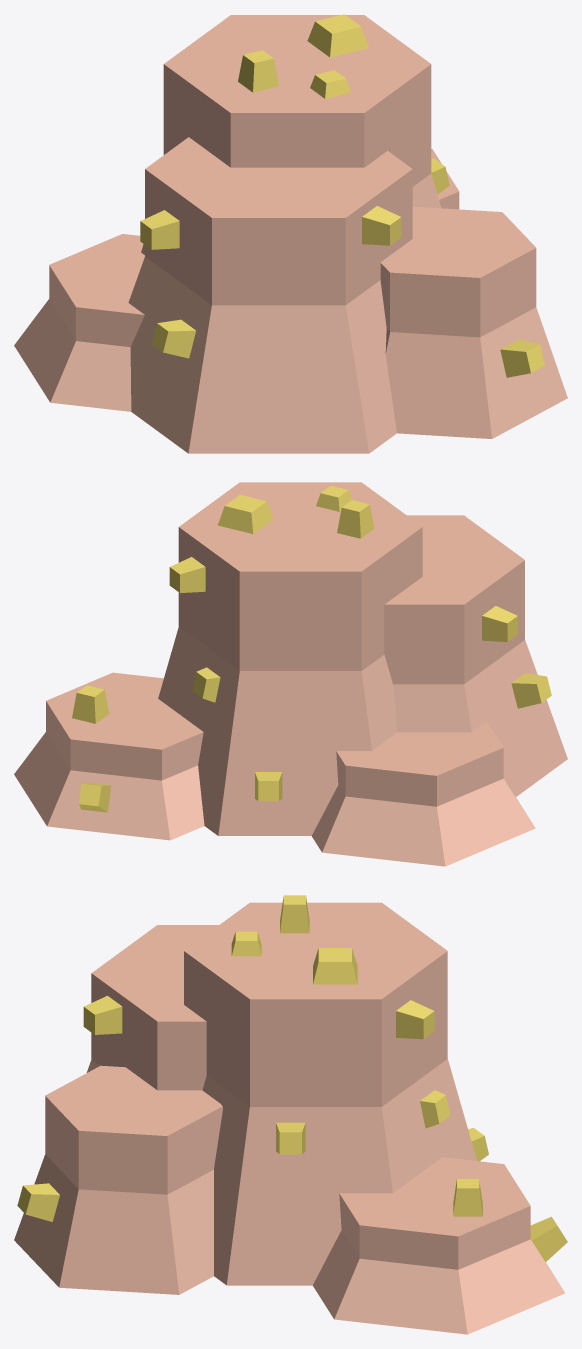
The model's file is rock_crystalsLargeBYellow.glb.
3 views of the same model, one above another, from view 1: azimuth 30°, elevation 25°; view 2: azimuth 150°, elevation 25°; view 3: azimuth 270°, elevation 25° (orthographic). The views are drawn at different scales.
Parts seen in each view (by area): view 1: rock_crystalsLargeB; view 2: rock_crystalsLargeB; view 3: rock_crystalsLargeB.
Boxes of the visible parts, x1,y1,x2,y2 form: rock_crystalsLargeB: [14, 14, 567, 453]; rock_crystalsLargeB: [14, 482, 567, 866]; rock_crystalsLargeB: [14, 895, 567, 1334].
Size of the model in its own units: 0.9393 by 0.55 by 0.9321.
